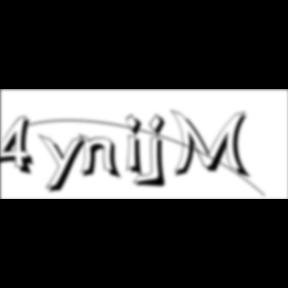4: (0, 115, 40, 179)
M: (170, 108, 254, 181)
i: (126, 112, 150, 180)
j: (146, 113, 174, 191)
n: (79, 132, 126, 181)
y: (38, 132, 92, 196)
